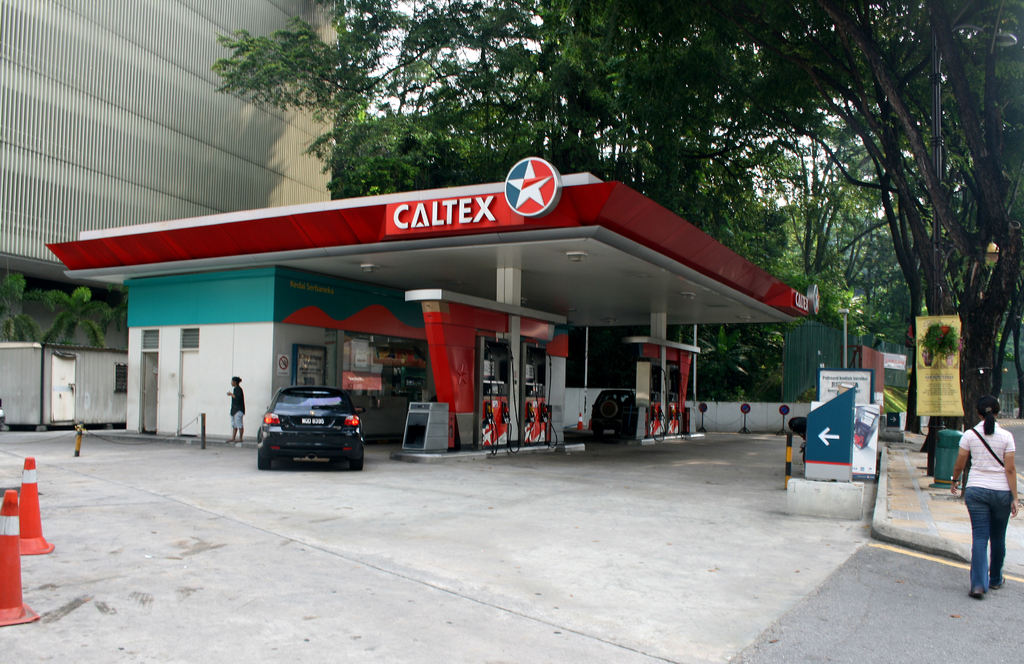car: (243, 366, 363, 467), (589, 371, 686, 449)
